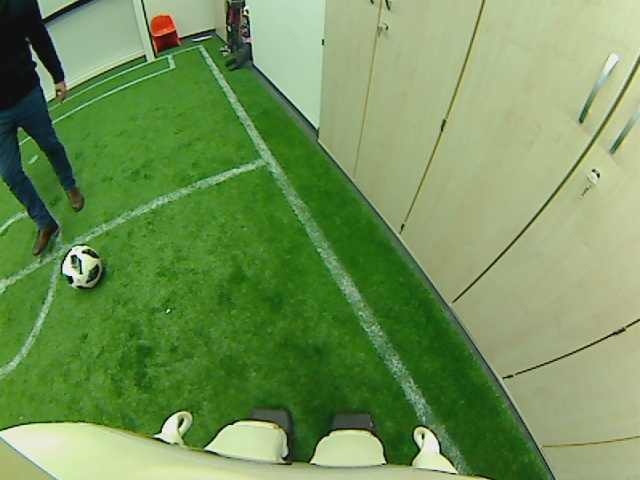ball: (59, 244, 103, 289)
